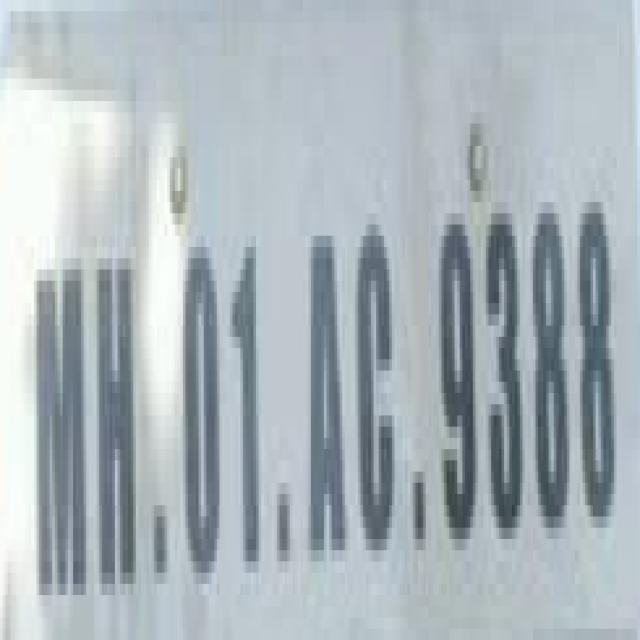license_plate: (0, 22, 609, 640)
